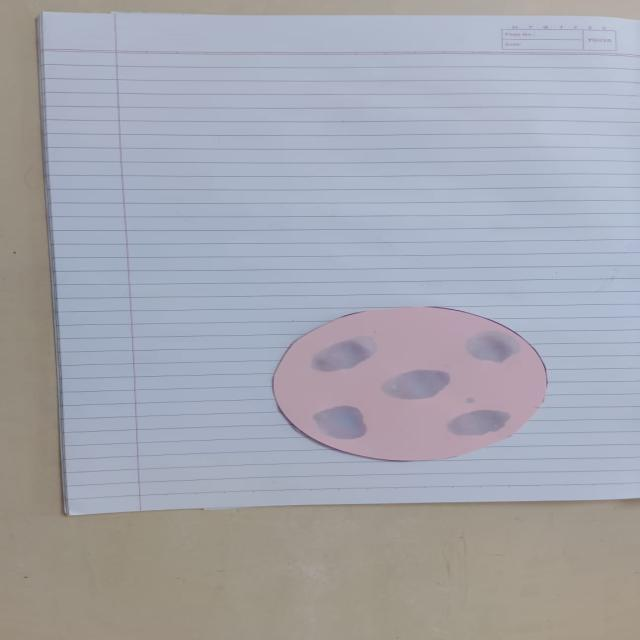BlueColor: (312, 337, 372, 372), (383, 370, 449, 399), (313, 406, 366, 439), (466, 331, 519, 363), (448, 411, 510, 436), (465, 397, 474, 404)
